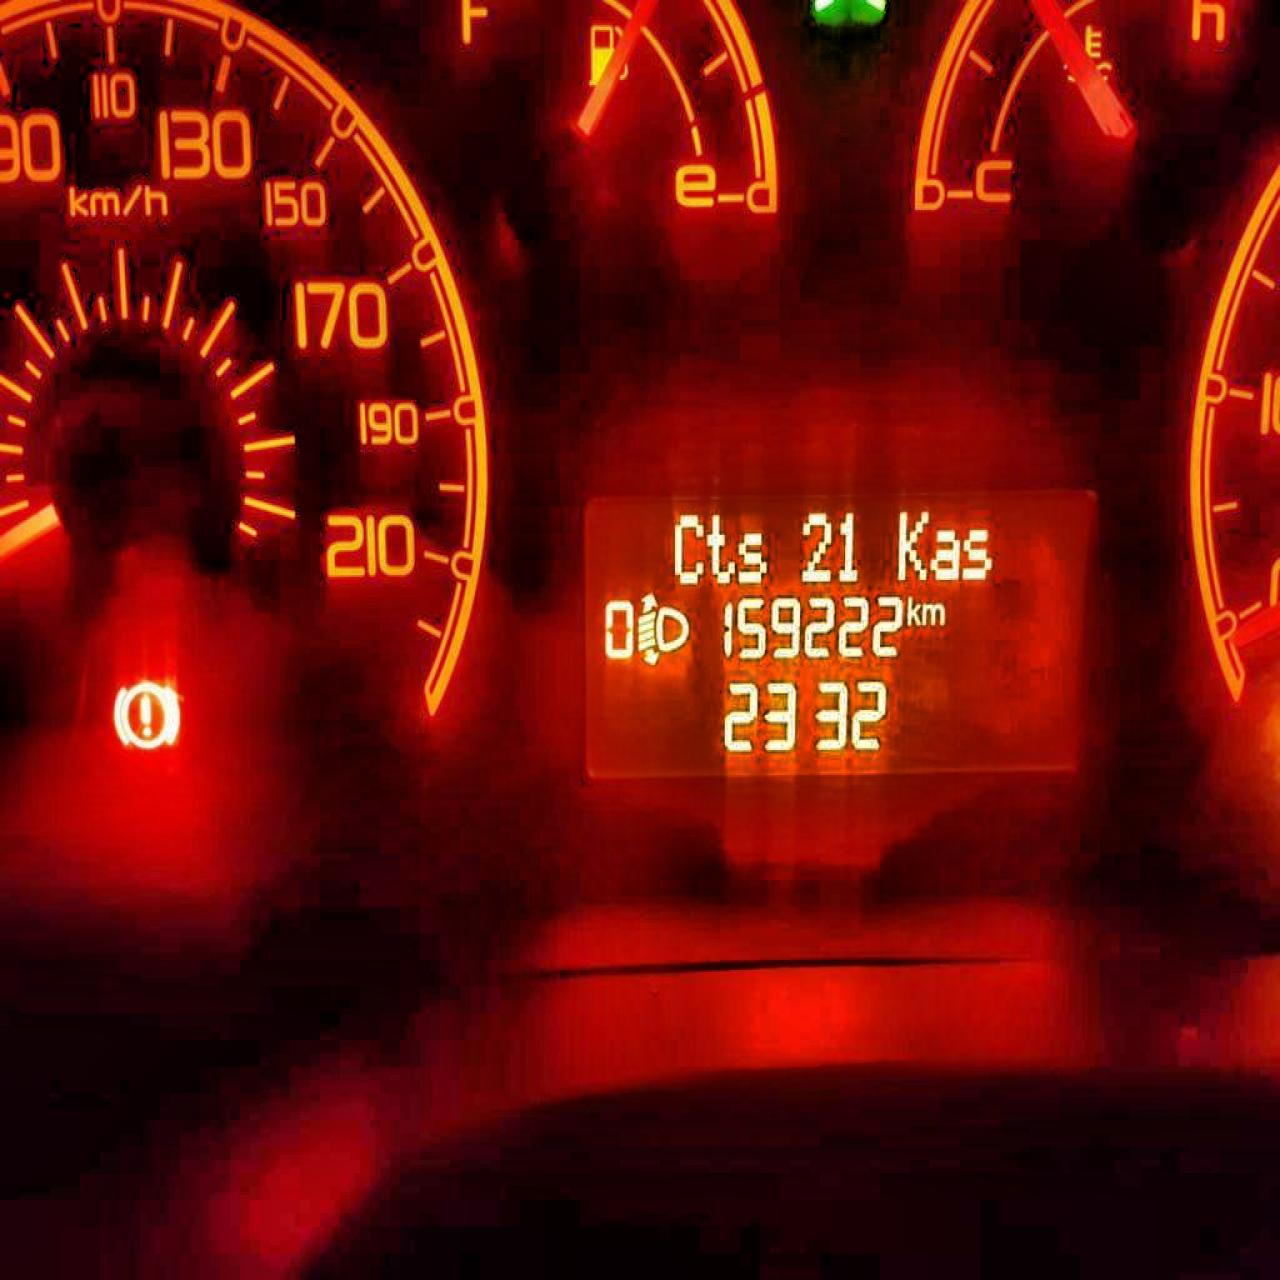0: (602, 597, 633, 659)
1: (837, 510, 858, 581), (720, 598, 734, 656)
2: (721, 680, 758, 754), (850, 679, 887, 750), (798, 510, 831, 581), (870, 593, 903, 656), (802, 593, 833, 659), (836, 595, 869, 656)
3: (812, 680, 847, 751), (762, 680, 797, 750)
5: (734, 595, 767, 660)
9: (769, 594, 799, 659)
X: (896, 509, 930, 581), (672, 512, 703, 585), (704, 512, 734, 584), (960, 526, 994, 580), (736, 530, 769, 585), (927, 526, 960, 581), (920, 600, 946, 627), (905, 593, 920, 627)
odometer: (574, 483, 1094, 790)
